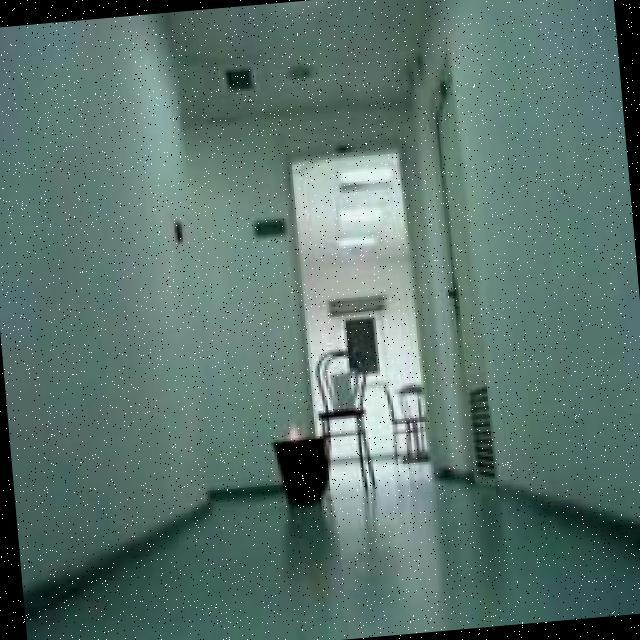Fire: (282, 422, 298, 445)
